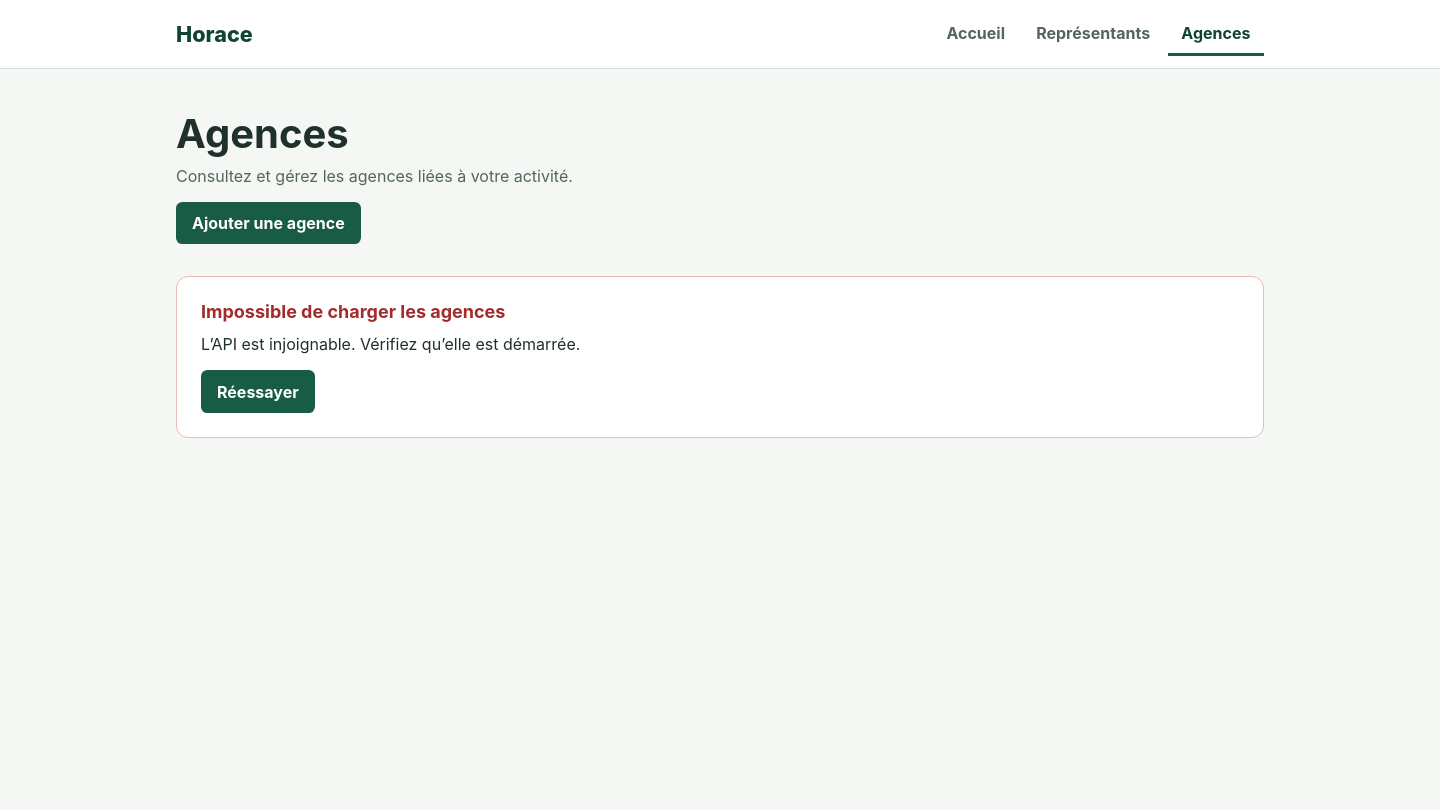
Test: page agences › relance la requête après une erreur
Click the button "Réessayer": (258, 392) [201,370,315,413]
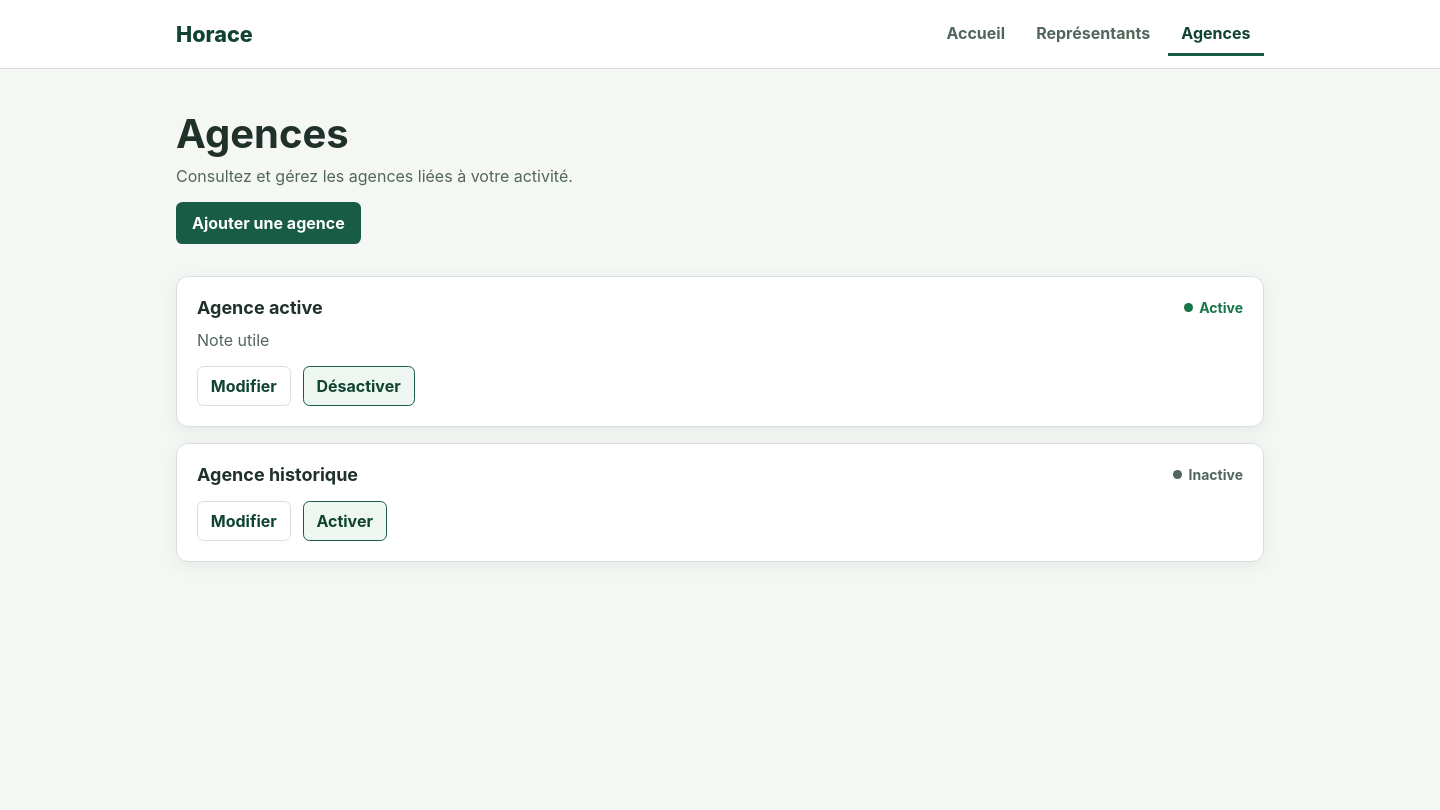
Expected: the heading "Agence active" is shown, [197,297,323,318]
